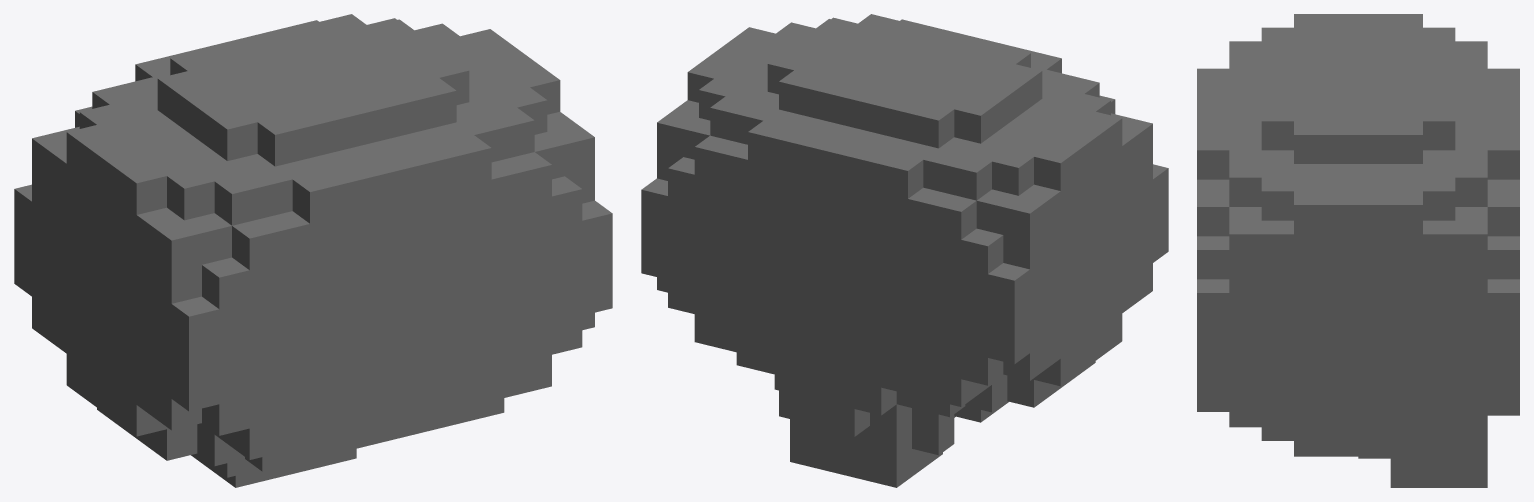
The model's file is Golem.obj.
3 views of the same model, side by side, from view 1: azimuth 30°, elevation 25°; view 2: azimuth 150°, elevation 25°; view 3: azimuth 270°, elevation 25° (orthographic). The views are drawn at different scales.
Size of the model in its own units: 14 by 13 by 10.
Materials: 1 (1 with a texture image).
